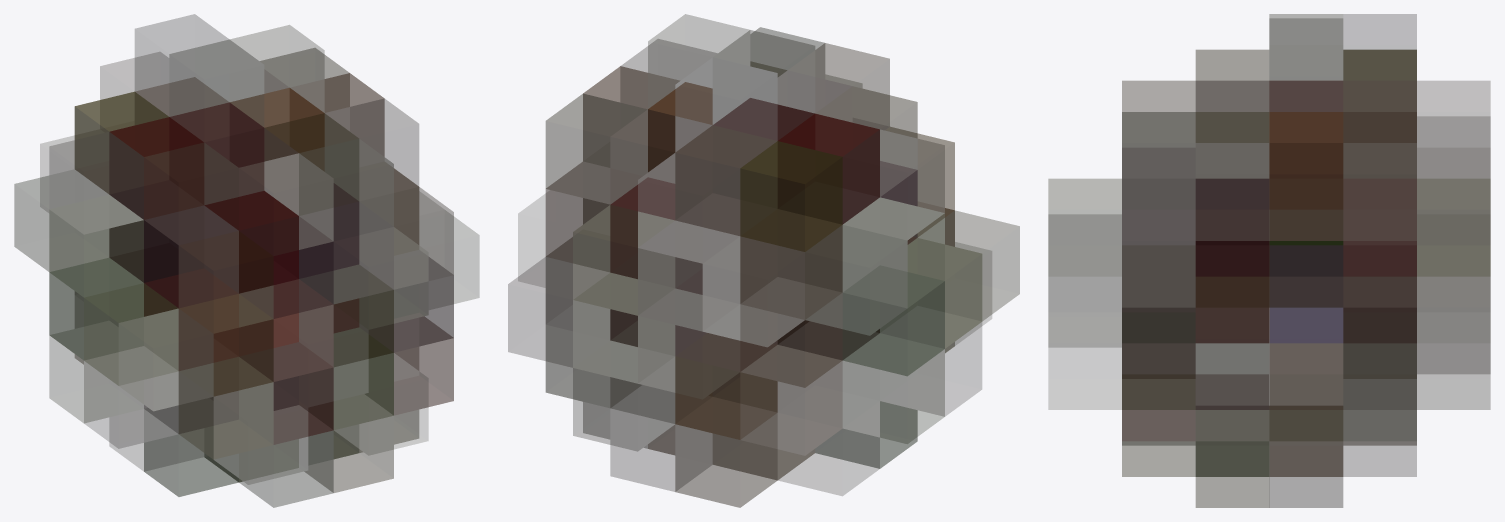
The model's file is iter_10.obj.
3 views of the same model, side by side, from view 1: azimuth 30°, elevation 25°; view 2: azimuth 150°, elevation 25°; view 3: azimuth 270°, elevation 25° (orthographic). The views are drawn at different scales.
Visible parts, largest first — view 1: iter_10; view 2: iter_10; view 3: iter_10.
Part boxes in pixels (x1,y1,x2,y2): iter_10: [14, 14, 479, 507]; iter_10: [508, 14, 1019, 507]; iter_10: [1048, 14, 1490, 507].
Size of the model in its own units: 0.6 by 0.6 by 0.6.
